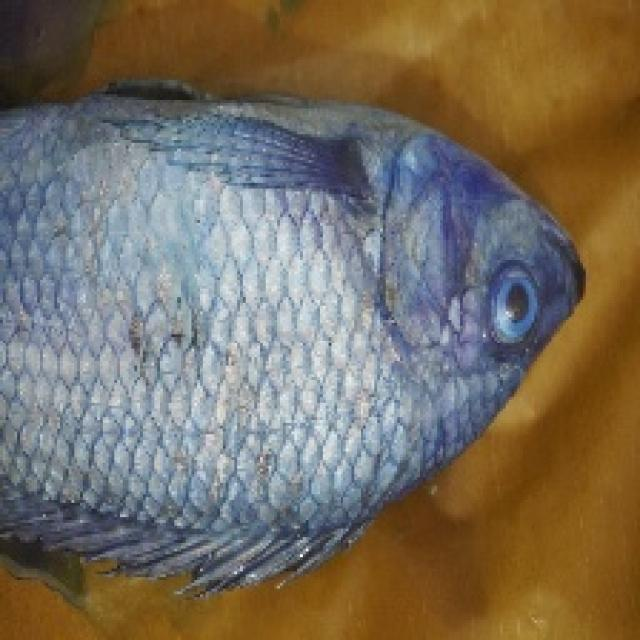Non-Fresh: (459, 246, 556, 362)
